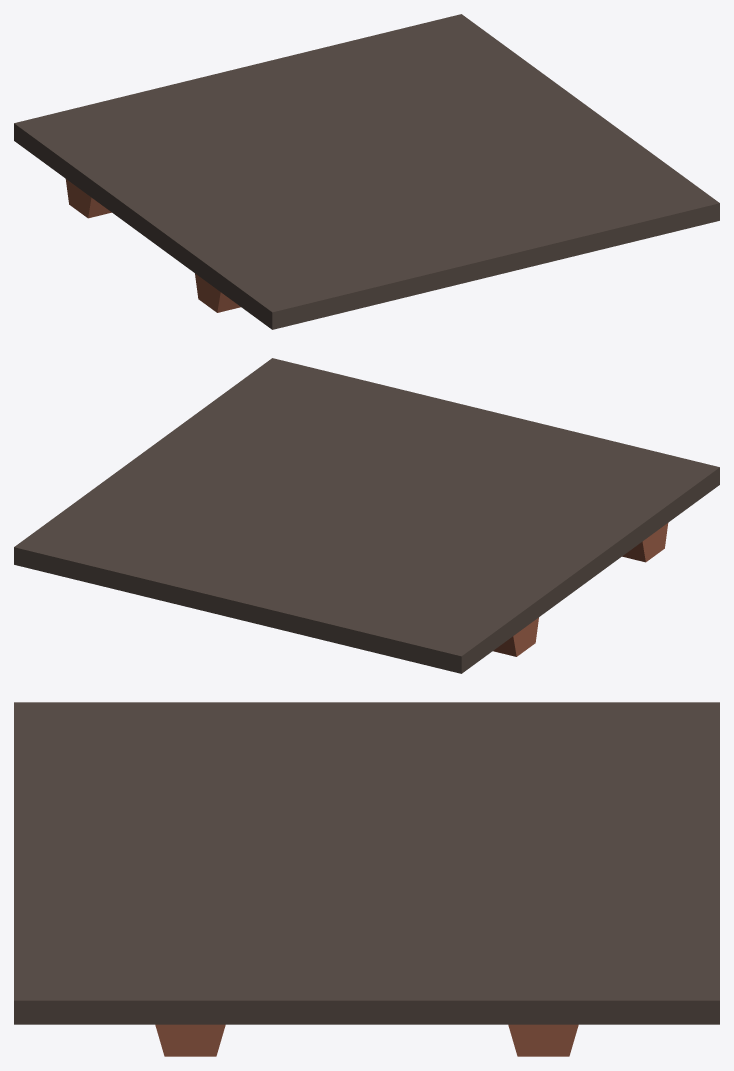
Rendered from ceiling_tile.gltf.
3 views of the same model, one above another, from view 1: azimuth 30°, elevation 25°; view 2: azimuth 150°, elevation 25°; view 3: azimuth 270°, elevation 25° (orthographic). The views are drawn at different scales.
Visible parts, largest first — view 1: ceiling_tile; view 2: ceiling_tile; view 3: ceiling_tile.
Boxes of the visible parts, x1=… form: ceiling_tile: x1=14, y1=14, x2=719, y2=329; ceiling_tile: x1=14, y1=358, x2=719, y2=673; ceiling_tile: x1=14, y1=702, x2=719, y2=1056.
Bounding box in the file's own units: 4 × 0.35 × 4.
Materials: 1 (1 with a texture image).
